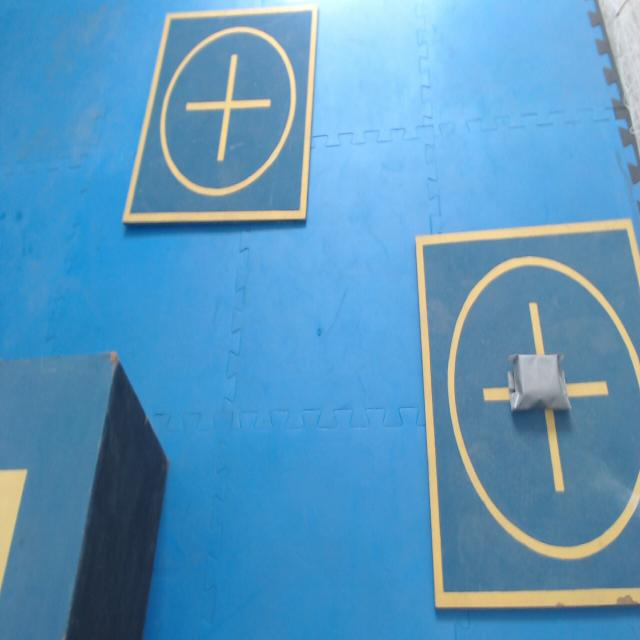lipo: (508, 354, 570, 411)
